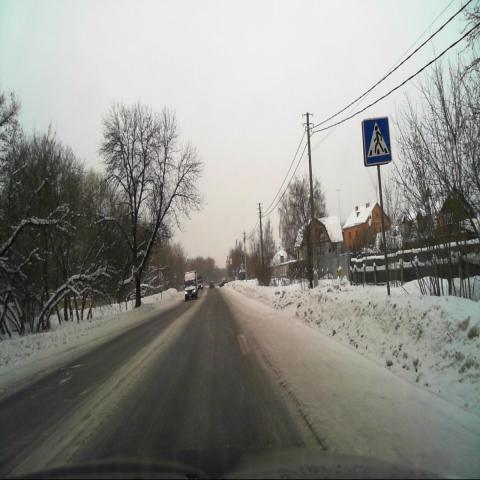5_19_1: (364, 116, 392, 167)
